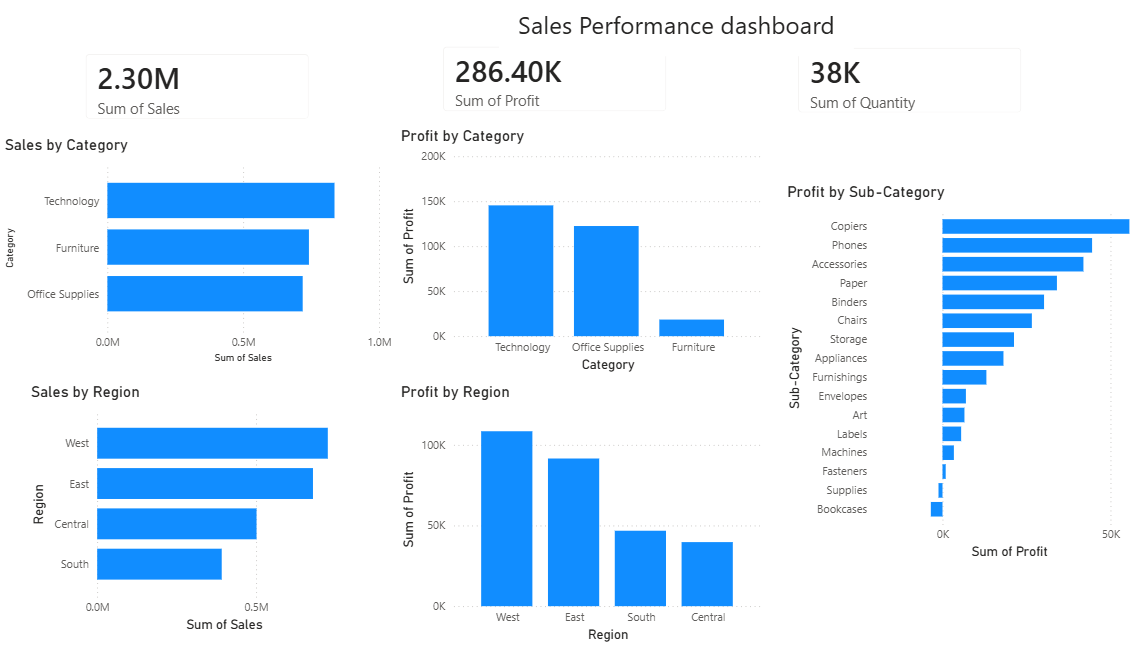

Layout of this report page (visuals, bound fields, positions):
{"tool":"powerbi","page":{"name":"Page 1","canvas":[1280,720],"ordinal":0},"visuals":[{"type":"cardVisual","fields":{"Data":["Sum(samplestore.Sales)"]},"box":[78.2,53.5,279.9,105.7],"z":0},{"type":"cardVisual","fields":{"Data":["Sum(samplestore.Profit)"]},"box":[470.7,45.3,279.9,105.7],"z":1},{"type":"cardVisual","fields":{"Data":["Sum(samplestore.Quantity)"]},"box":[860.4,46.7,279.9,105.7],"z":2},{"type":"clusteredBarChart","title":" Sales by Category","fields":{"Category":["samplestore.Category"],"Y":["Sum(samplestore.Sales)"]},"box":[1.4,159.2,435,255.2],"z":3},{"type":"clusteredColumnChart","title":" Profit by Category","fields":{"Category":["samplestore.Category"],"Y":["Sum(samplestore.Profit)"]},"box":[436.4,149.6,406.2,274.4],"z":4},{"type":"clusteredBarChart","title":"Sales by Region","fields":{"Category":["samplestore.Region"],"Y":["Sum(samplestore.Sales)"]},"box":[30.2,430.9,376,278.6],"z":5},{"type":"clusteredColumnChart","title":"Profit by Region","fields":{"Category":["samplestore.Region"],"Y":["Sum(samplestore.Profit)"]},"box":[436.4,430.9,406.2,289.5],"z":6},{"type":"clusteredBarChart","title":"Profit by Sub-Category","fields":{"Category":["samplestore.Sub-Category"],"Y":["Sum(samplestore.Profit)"]},"box":[860.4,211.3,419.9,418.5],"z":7},{"type":"textbox","box":[548.9,15.1,389.7,57.6],"z":8},{"type":"textbox","box":[838.4,714.9,100.2,5.5],"z":9}]}

Visuals, with their boxes in screenshot pixels (x1, y1, x2, y2), scaled from the page's 1280x720 canvas onto the 1147x645 screenshot:
cardVisual - Sum(samplestore.Sales): 70:48:321:143
cardVisual - Sum(samplestore.Profit): 422:41:673:135
cardVisual - Sum(samplestore.Quantity): 771:42:1022:137
" Sales by Category" clusteredBarChart: 1:143:391:371
" Profit by Category" clusteredColumnChart: 391:134:755:380
"Sales by Region" clusteredBarChart: 27:386:364:636
"Profit by Region" clusteredColumnChart: 391:386:755:644
"Profit by Sub-Category" clusteredBarChart: 771:189:1146:564
textbox: 492:14:841:65
textbox: 751:640:841:644
